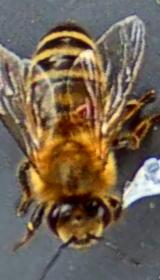varroa_mite: (70, 92, 100, 126)
